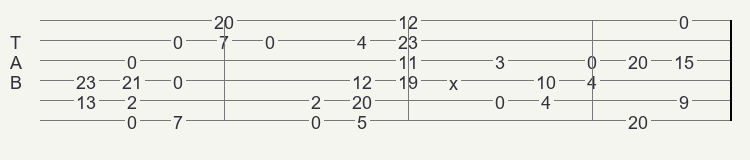0: (127, 52, 141, 69), (127, 112, 141, 129), (173, 72, 187, 89), (173, 32, 187, 49), (265, 32, 279, 49), (311, 112, 325, 129), (495, 92, 509, 109), (587, 52, 601, 69), (679, 12, 693, 29)
10: (536, 72, 560, 89)
11: (398, 52, 422, 69)
12: (352, 72, 376, 89), (398, 12, 422, 29)
13: (76, 92, 100, 109)
15: (674, 52, 698, 69)
19: (398, 72, 422, 89)
2: (127, 92, 141, 109), (311, 92, 325, 109)
20: (214, 12, 238, 29), (352, 92, 376, 109), (628, 112, 652, 129), (628, 52, 652, 69)
21: (122, 72, 146, 89)
23: (76, 72, 100, 89), (398, 32, 422, 49)
3: (495, 52, 509, 69)
4: (357, 32, 371, 49), (541, 92, 555, 109), (587, 72, 601, 89)
5: (357, 112, 371, 129)
7: (173, 112, 187, 129), (219, 32, 233, 49)
9: (679, 92, 693, 109)
x: (449, 73, 462, 87)
